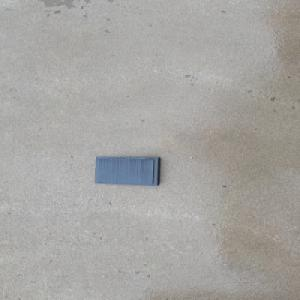PlasticPart: (93, 155, 162, 186)
